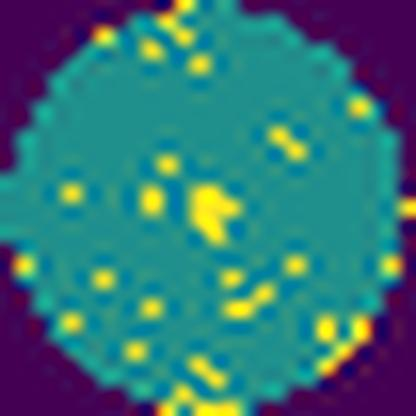Center: (184, 175, 251, 250)
